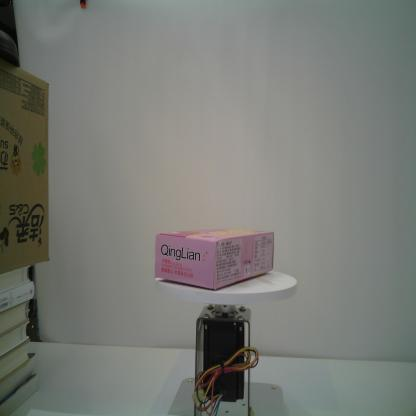Dessert: (154, 228, 274, 290)
